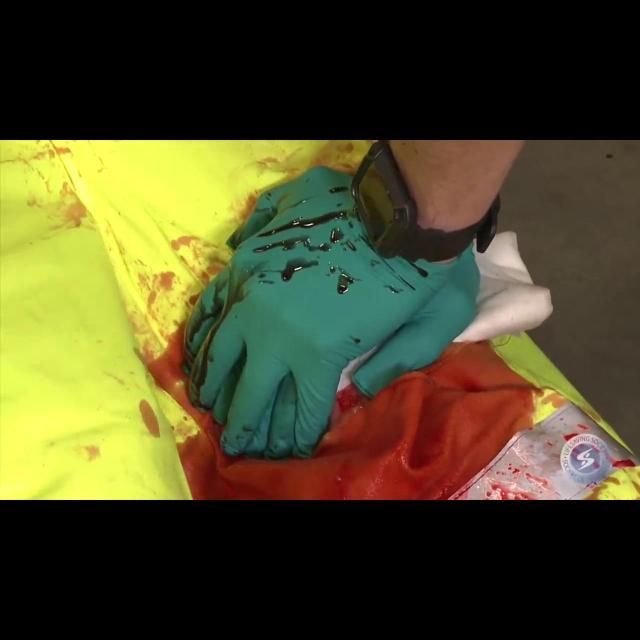blood: (150, 328, 540, 499), (252, 208, 354, 282), (324, 256, 358, 294), (138, 400, 160, 438), (170, 235, 199, 250), (338, 239, 358, 259), (158, 271, 174, 290)
